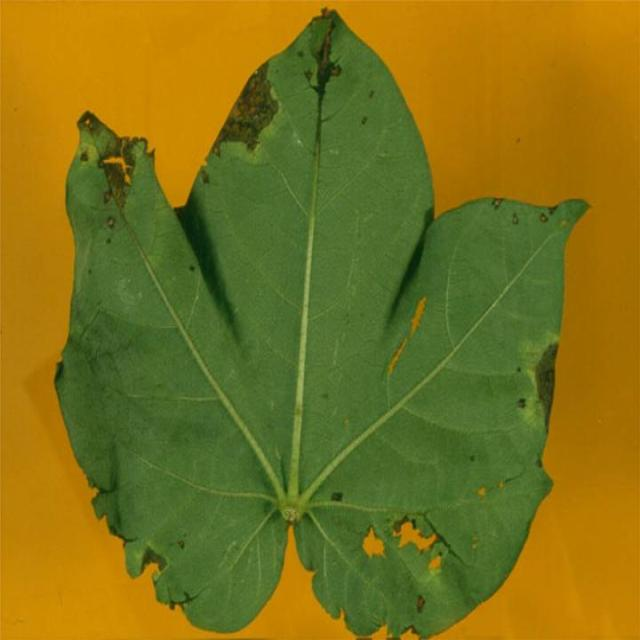Bacterial Blight: (72, 74, 299, 234)
